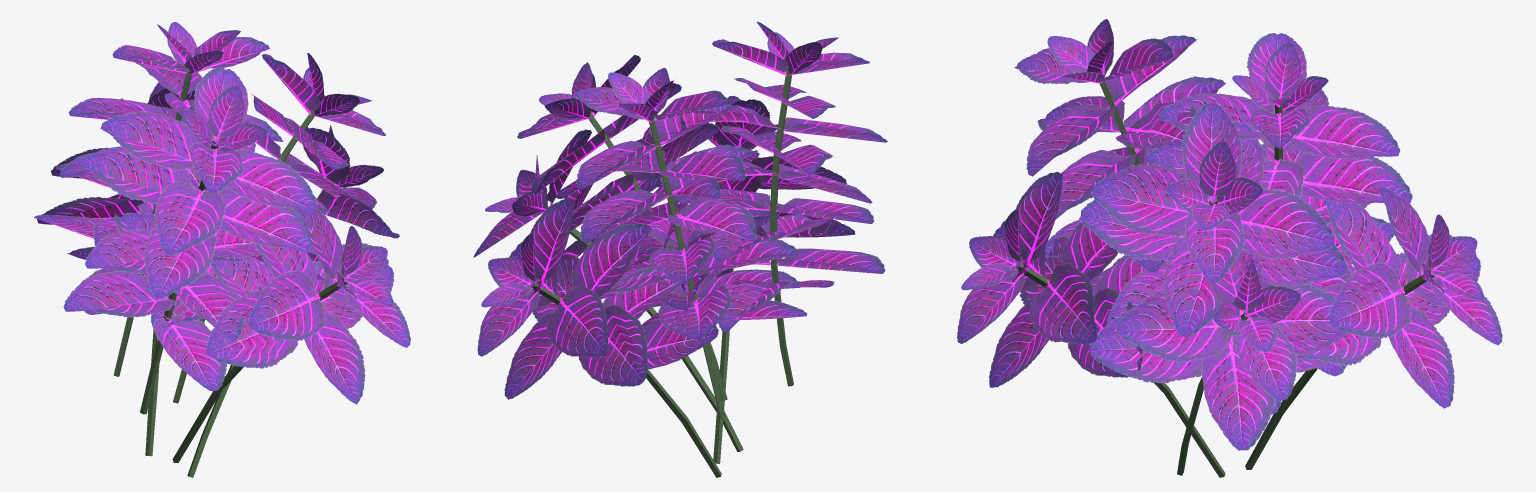
The model's file is plant3.glb.
The picture shows the model from 3 angles, left to right: view 1: azimuth 30°, elevation 25°; view 2: azimuth 150°, elevation 25°; view 3: azimuth 270°, elevation 25°; orthographic projection. The views are drawn at different scales.
Visible parts, largest first — view 1: Line099.001; view 2: Line099.001; view 3: Line099.001.
Part boxes in pixels (x1=…): Line099.001: x1=34, y1=22, x2=410, y2=477; Line099.001: x1=473, y1=21, x2=887, y2=477; Line099.001: x1=956, y1=19, x2=1502, y2=477.
Bounding box in the file's own units: 8.17 × 8.71 × 10.24.
2 materials, 1 textured.
